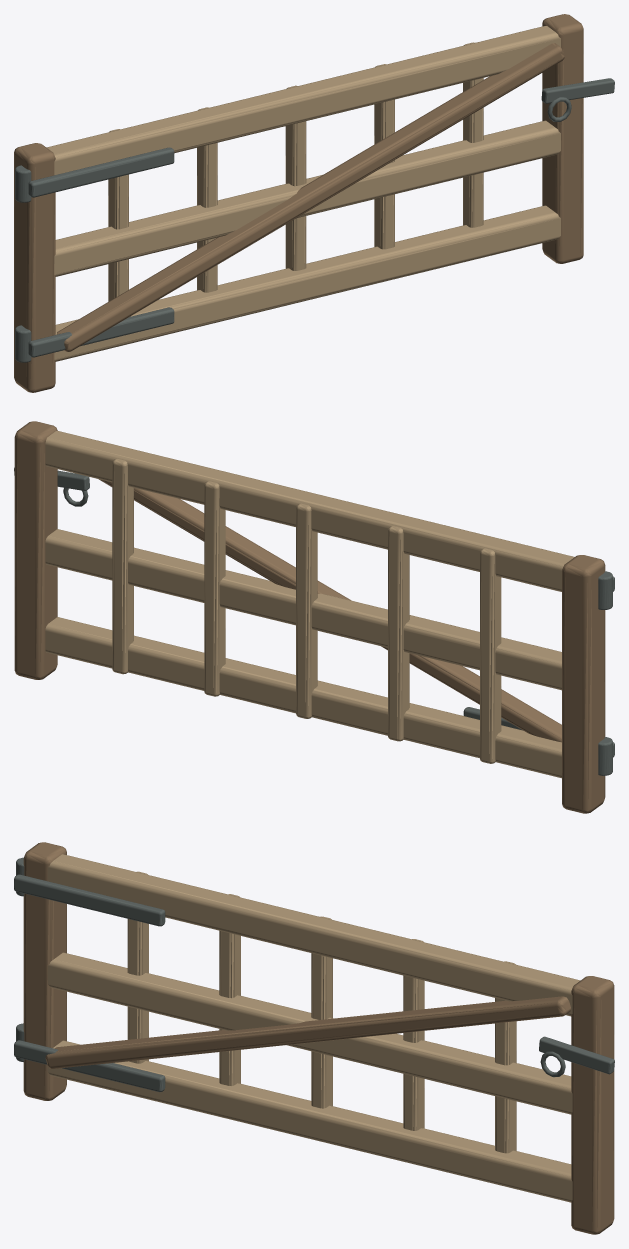
The model's file is SM_Gate.fbx.
3 views of the same model, one above another, from view 1: azimuth 30°, elevation 25°; view 2: azimuth 150°, elevation 25°; view 3: azimuth 330°, elevation 25° (orthographic). The views are drawn at different scales.
Visible parts, largest first — view 1: SM_Gate; view 2: SM_Gate; view 3: SM_Gate.
Boxes of the visible parts, <box> form: SM_Gate: <box>14,14,614,392</box>; SM_Gate: <box>14,421,614,813</box>; SM_Gate: <box>14,842,614,1234</box>.
Size of the model in its own units: 311 by 25.54 by 120.
